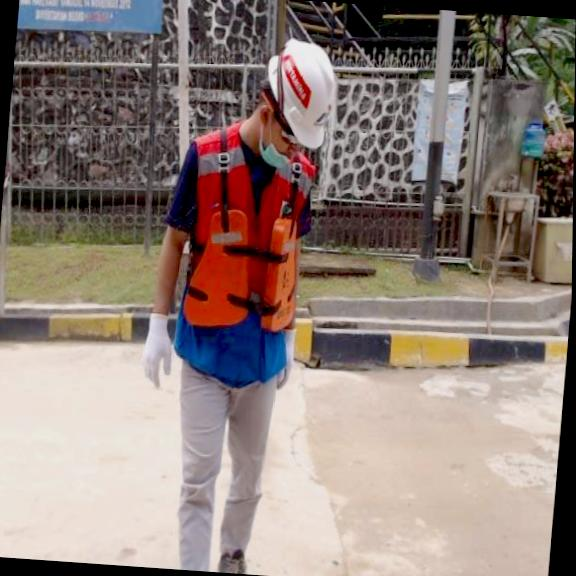safety_vest: (180, 206, 303, 336)
